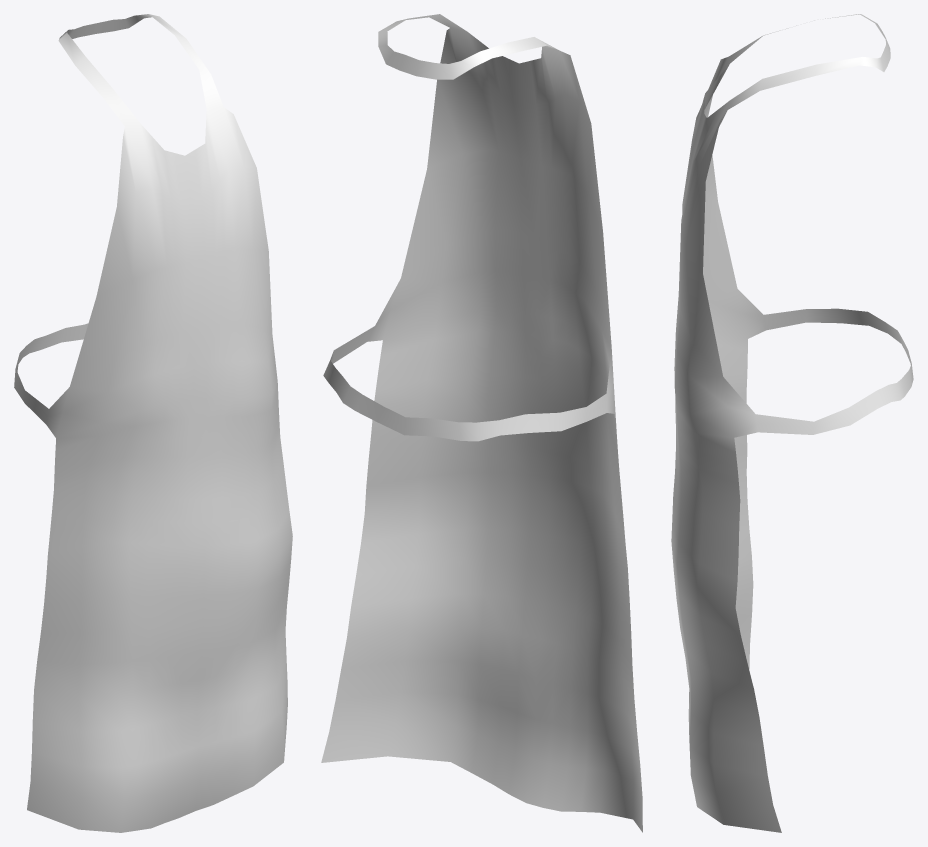
Rendered from Meat_Male_Apron.glb.
The picture shows the model from 3 angles, left to right: view 1: azimuth 30°, elevation 25°; view 2: azimuth 150°, elevation 25°; view 3: azimuth 270°, elevation 25°; orthographic projection. The views are drawn at different scales.
Visible parts, largest first — view 1: Male_Meat_Apron; view 2: Male_Meat_Apron; view 3: Male_Meat_Apron.
Part boxes in pixels (x1,y1,x2,y2): Male_Meat_Apron: (14,14,292,832); Male_Meat_Apron: (321,14,642,832); Male_Meat_Apron: (671,14,913,832).
Bounding box in the file's own units: 0.7756 × 2 × 0.5785.
1 material, 1 textured.
